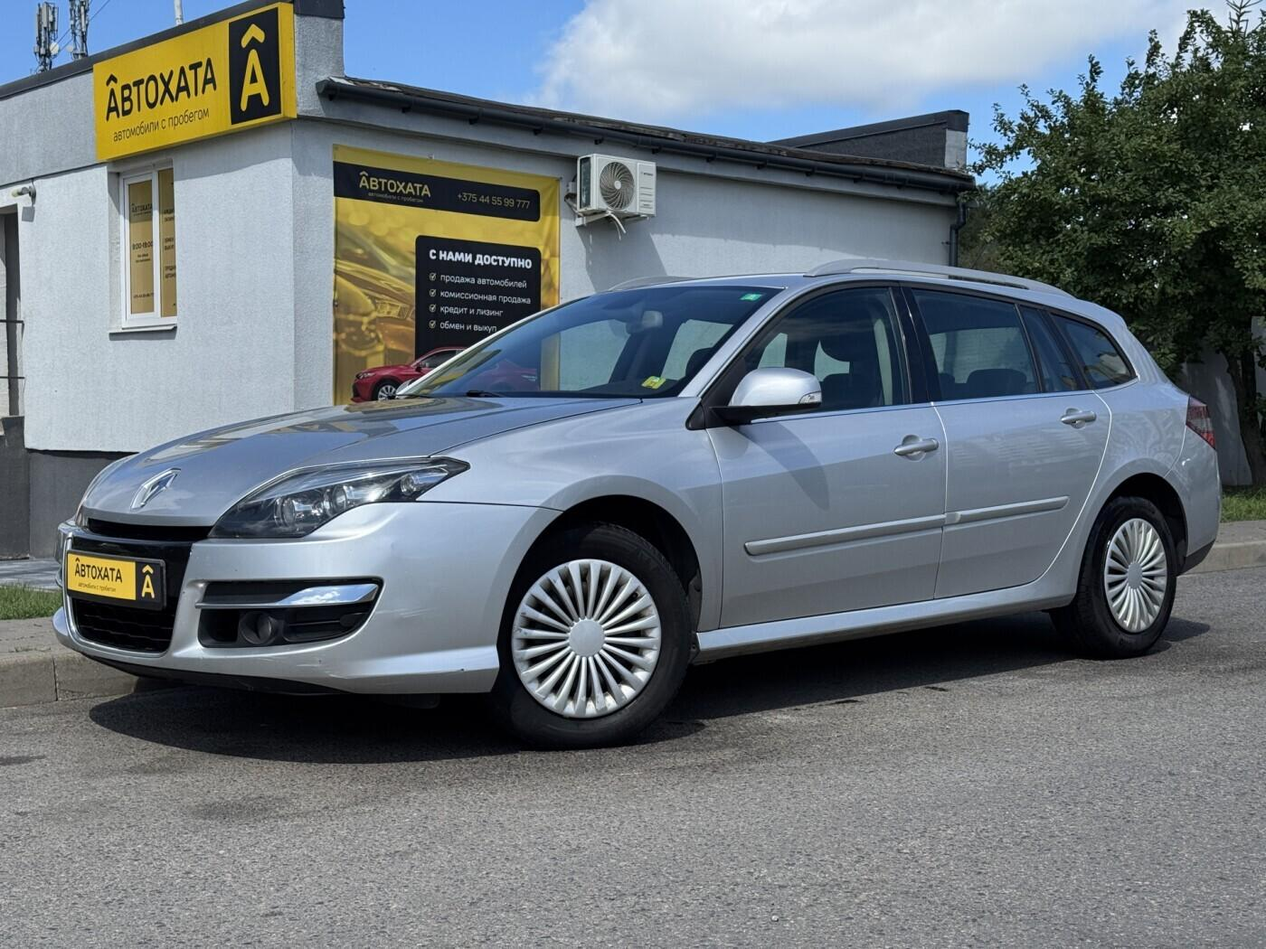Laguna_2010-2015: (44, 258, 1226, 751)
